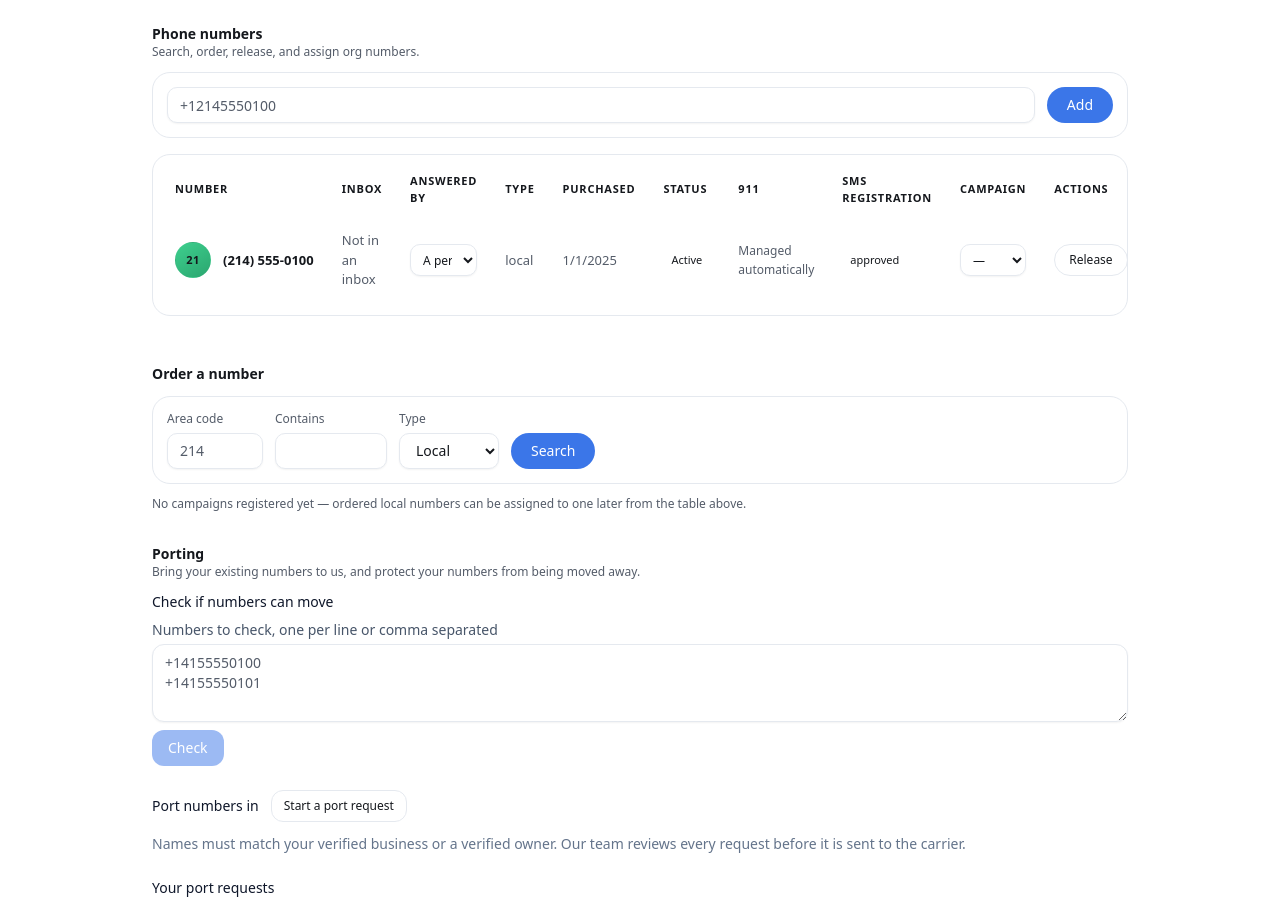
Test case: NumbersPage › surfaces a search failure with an alert instead of the generic 'no numbers found' text
Step 1. Click the button "Search" → x=553, y=450, box [511,432,595,468]
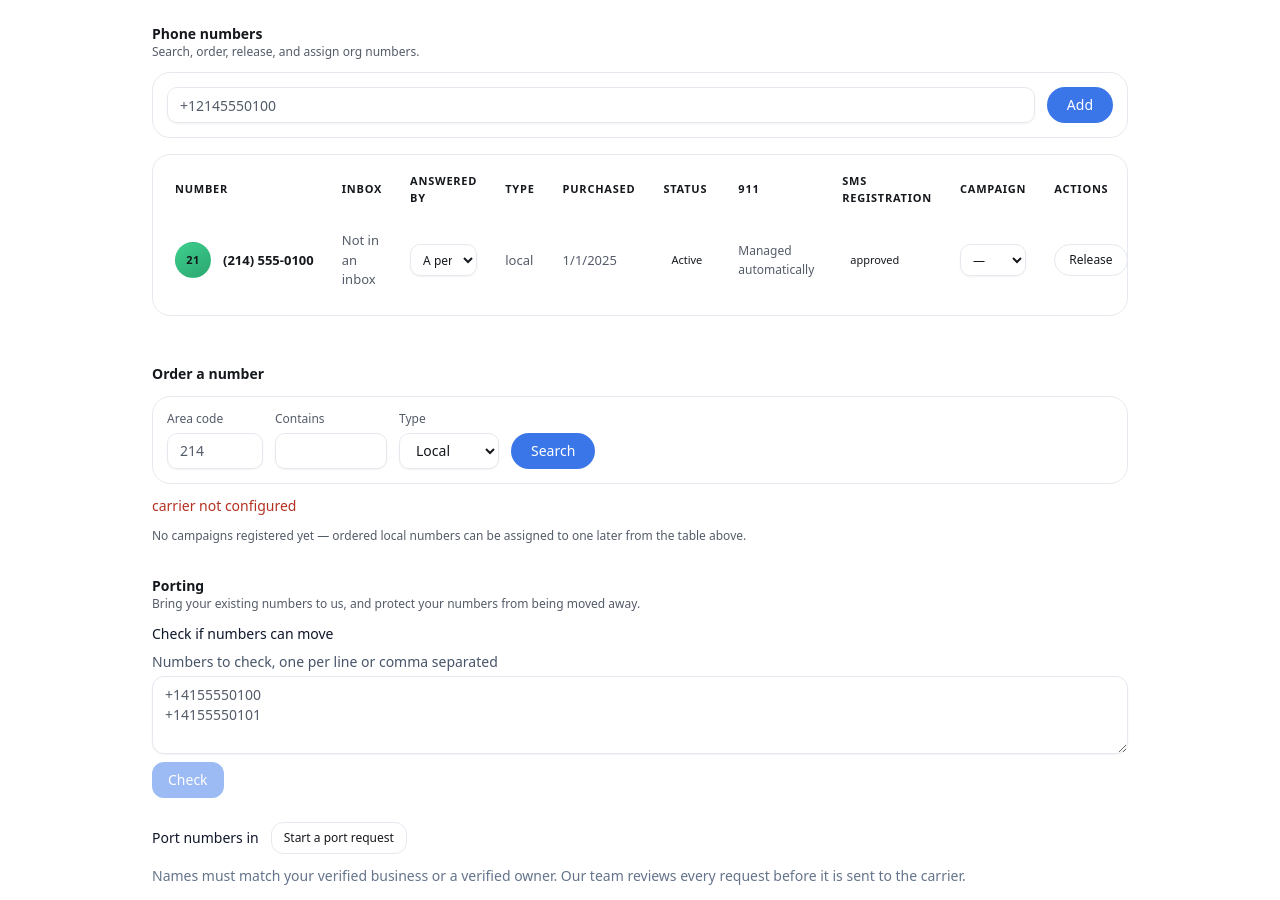
Expected: the message reads "carrier not configured", [152,496,296,514]
